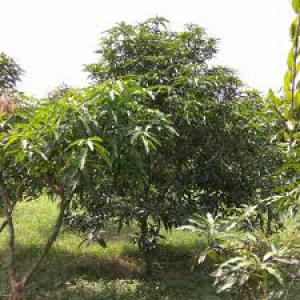Tree: (64, 16, 299, 257), (3, 82, 96, 294)
